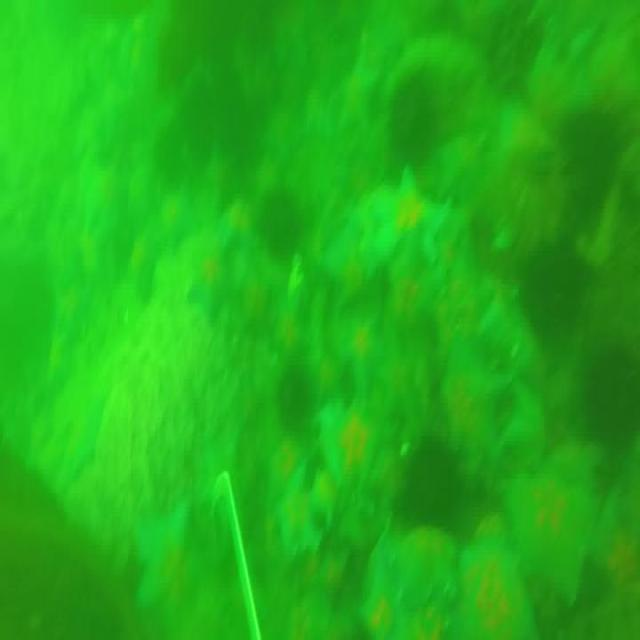echinus: (562, 103, 620, 218), (393, 432, 459, 530), (521, 237, 581, 332), (208, 68, 260, 167), (388, 68, 436, 164), (587, 340, 632, 441), (178, 66, 210, 163), (261, 180, 299, 253), (276, 362, 310, 428)
starfish: (505, 464, 588, 608), (436, 338, 514, 481), (132, 483, 202, 618), (375, 172, 458, 266), (458, 539, 535, 640), (588, 481, 640, 613), (276, 463, 338, 563), (362, 550, 418, 640), (327, 218, 392, 291), (181, 239, 232, 308), (336, 318, 387, 386), (314, 403, 360, 472)
